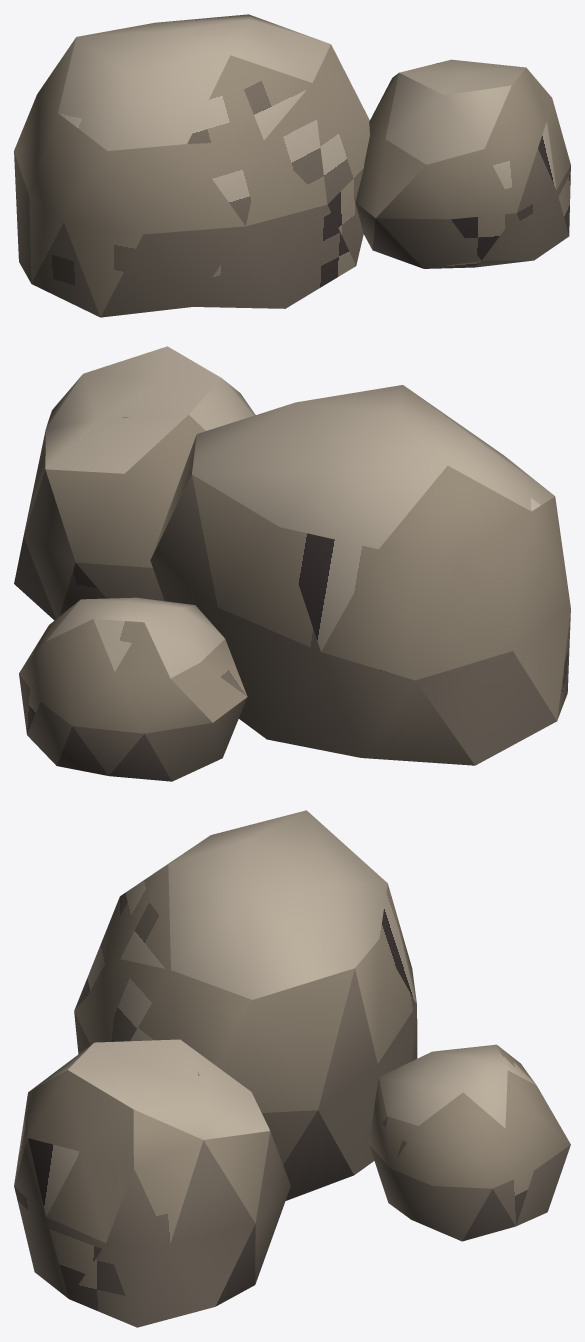
Rendered from rock_small_b.glb.
3 renders of one model, top to bottom at view 1: azimuth 30°, elevation 25°; view 2: azimuth 150°, elevation 25°; view 3: azimuth 270°, elevation 25°, orthographic. The views are drawn at different scales.
Visible parts, largest first — view 1: rock_small_b; view 2: rock_small_b; view 3: rock_small_b.
Part boxes in pixels (<box>): rock_small_b: <box>14,14,570,317</box>; rock_small_b: <box>14,346,570,781</box>; rock_small_b: <box>14,810,570,1327</box>.
Bounding box in the file's own units: 0.6351 × 0.3 × 0.5315.
Materials: 1 (1 with a texture image).
